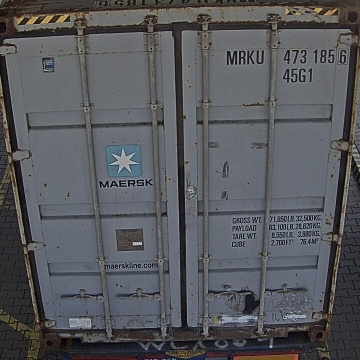serial_id: (227, 48, 348, 64)
